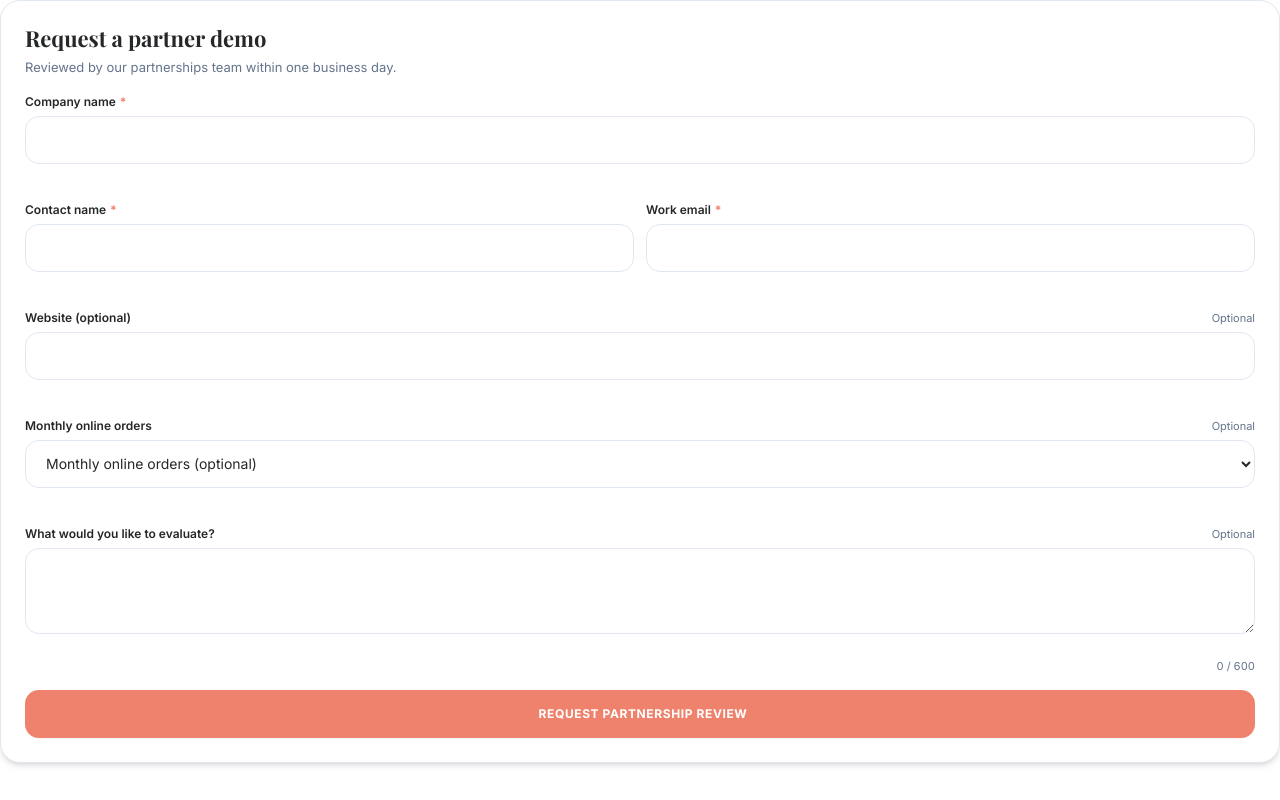
C. LeadForm › renders a duplicate as notice, never as success
Type "Integrity Brand" into the field labelled "Company name".
click(640, 140); type("Integrity Brand")  # box [25,116,1255,164]
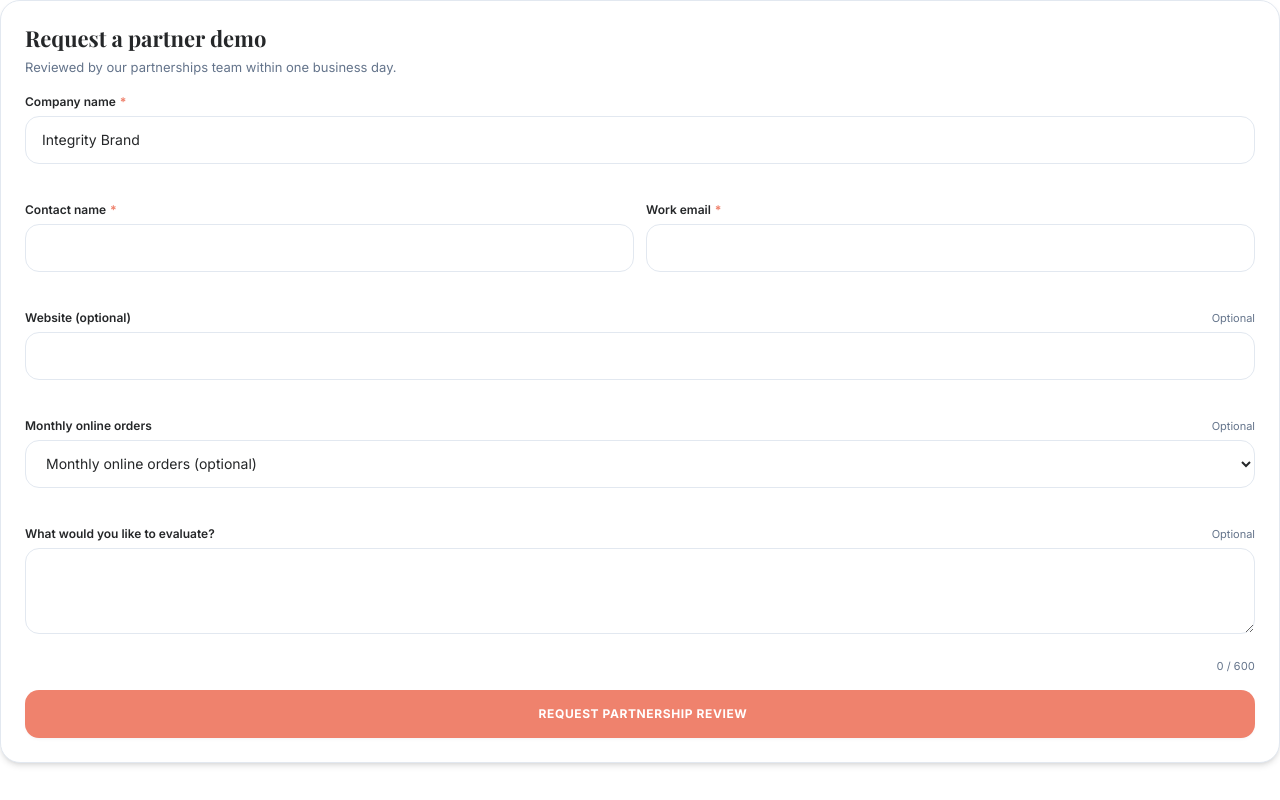
Type "Amina Partner" into the field labelled "Contact name".
click(330, 248); type("Amina Partner")  # box [25,224,634,272]
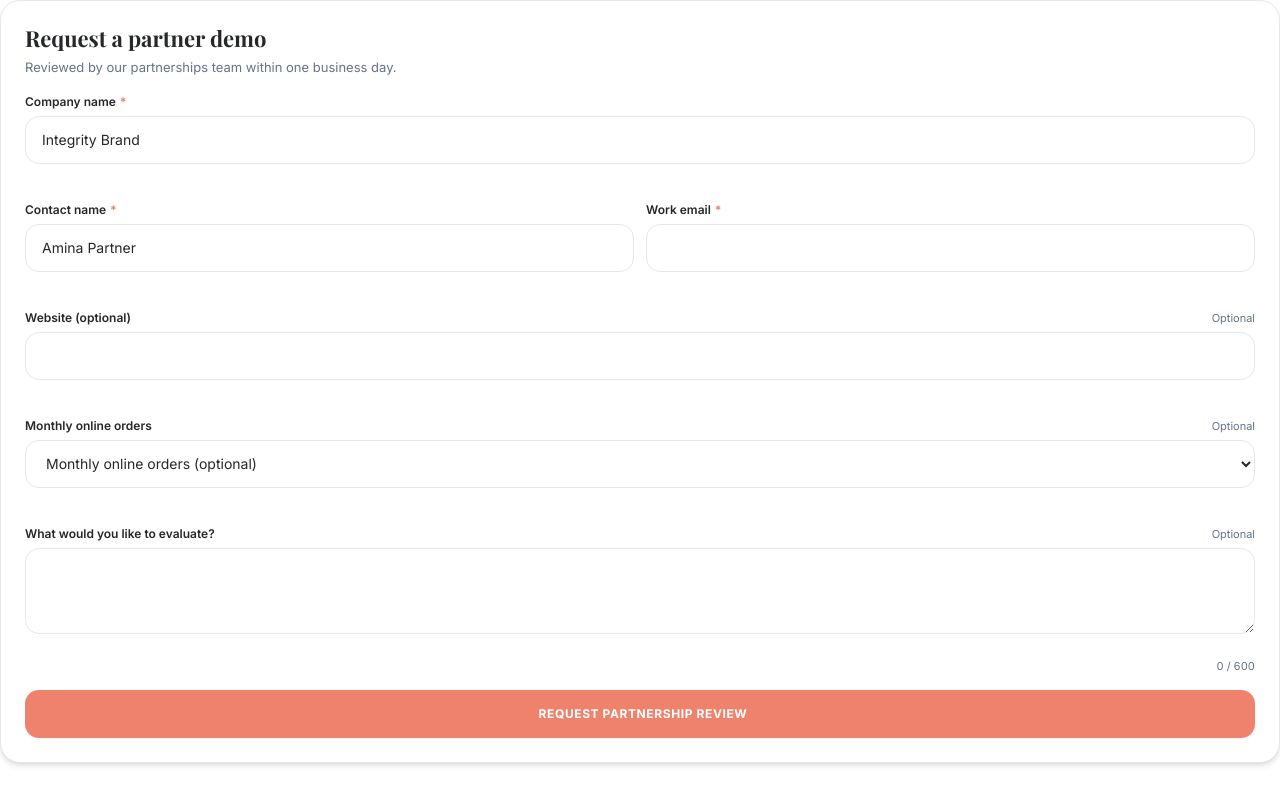
Type "amina@example.com" into the field labelled "Work email".
click(950, 248); type("amina@example.com")  # box [646,224,1255,272]
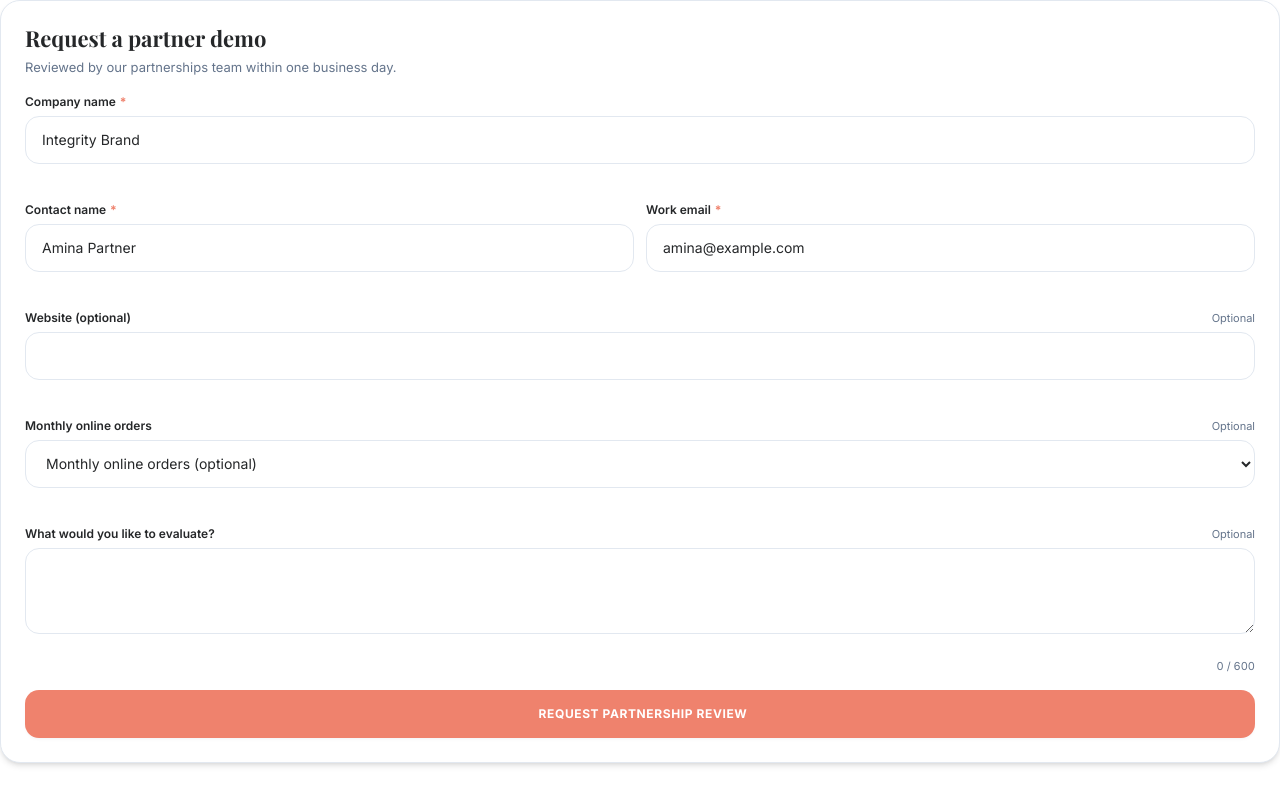
Click the button with test id "lead-submit".
click(640, 714)  # box [25,690,1255,738]
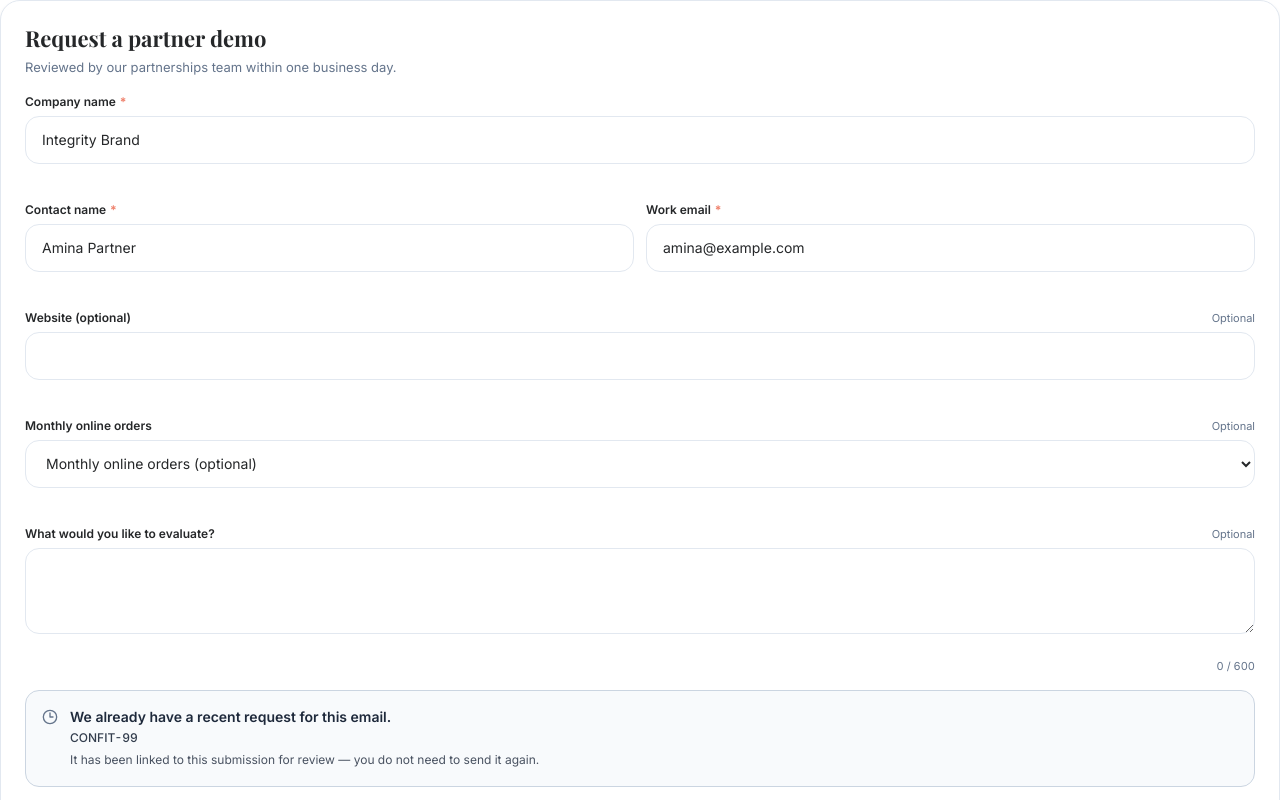
Now the text "We already have a recent request for this email." is shown, box [70,708,391,725]
